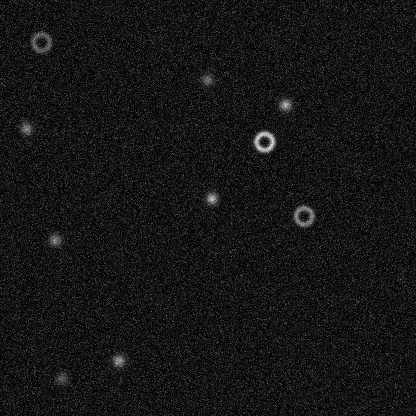Ring: (252, 129, 276, 153), (29, 30, 53, 54), (291, 203, 315, 227)
Spot: (277, 96, 293, 112), (46, 231, 62, 247), (110, 352, 126, 368), (203, 190, 219, 206), (53, 370, 69, 386), (18, 120, 34, 136), (199, 71, 215, 87)
